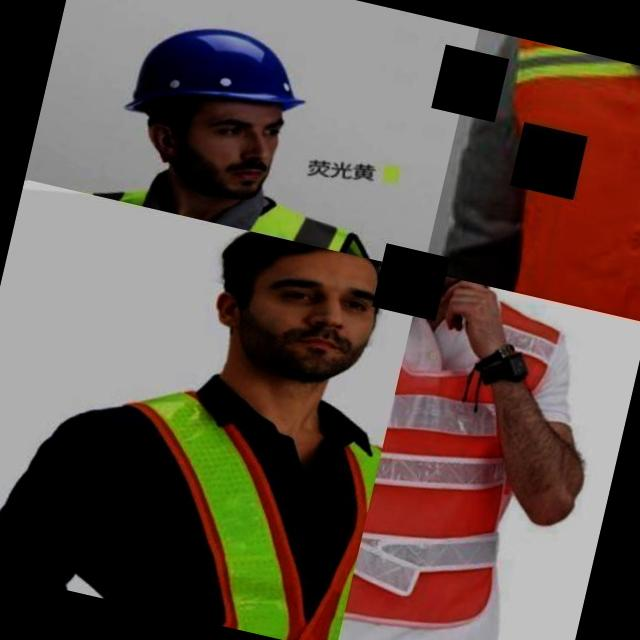vest: (60, 334, 393, 640), (340, 271, 603, 640), (430, 30, 640, 323)
